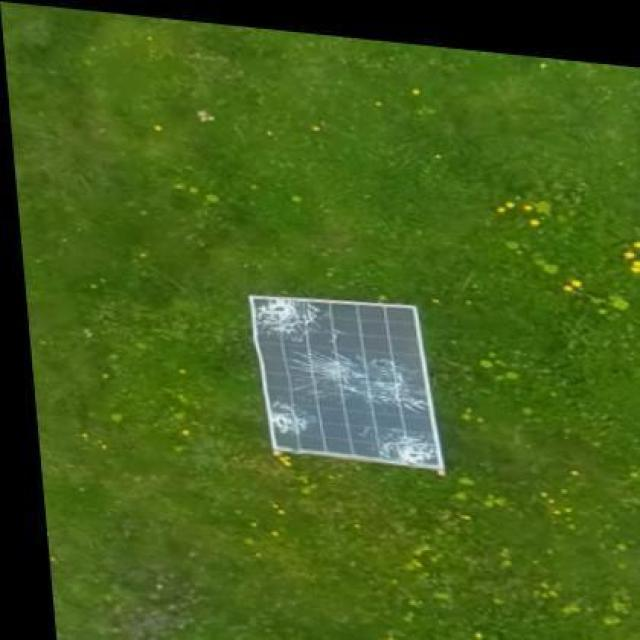cracked: (250, 288, 456, 471)
